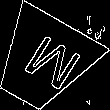M_SW: (9, 28, 77, 95)
